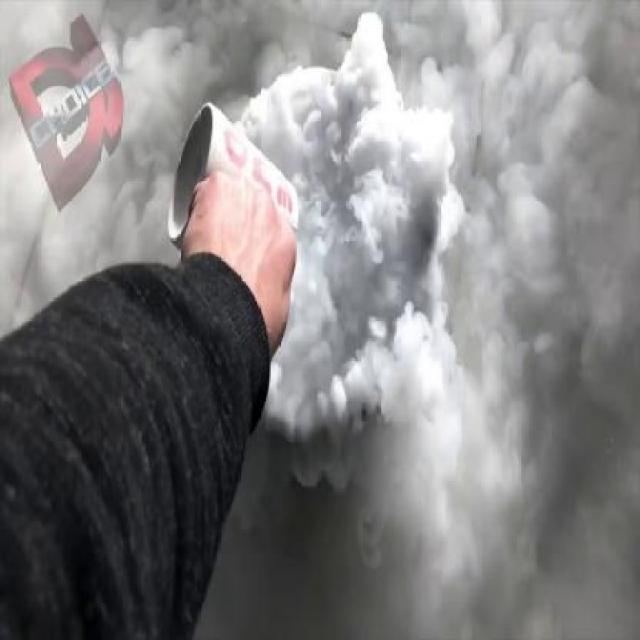smoke: (232, 71, 580, 591)
